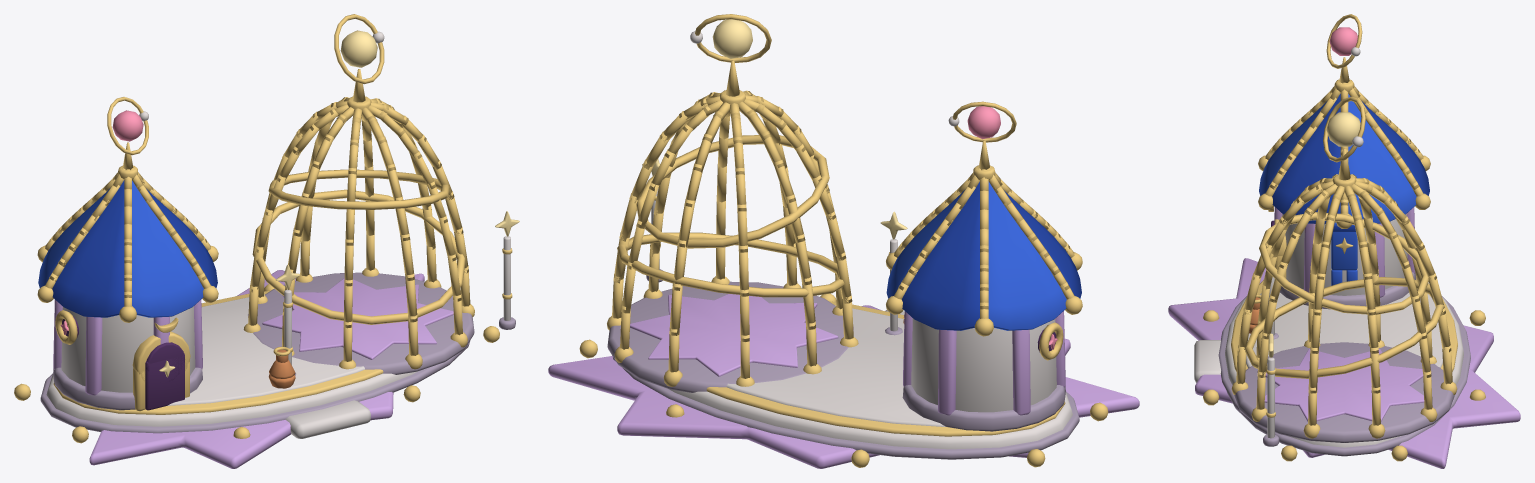
The model's file is Bestiary.glb.
3 views of the same model, side by side, from view 1: azimuth 30°, elevation 25°; view 2: azimuth 150°, elevation 25°; view 3: azimuth 270°, elevation 25° (orthographic). The views are drawn at different scales.
Visible parts, largest first — view 1: Bestiary; view 2: Bestiary; view 3: Bestiary.
Part boxes in pixels (x1=…): Bestiary: x1=14, y1=14, x2=519, y2=468; Bestiary: x1=548, y1=14, x2=1139, y2=468; Bestiary: x1=1168, y1=14, x2=1520, y2=468.
Size of the model in its own units: 4.12 by 2.94 by 2.98.
